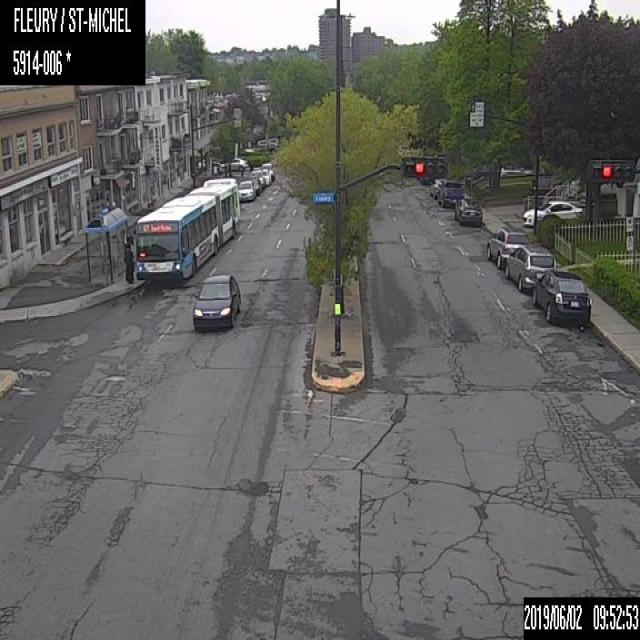bus: (134, 175, 238, 282)
pedestrian: (122, 233, 134, 283)
vehicle: (530, 268, 591, 322), (191, 271, 241, 329), (504, 242, 555, 290), (486, 224, 528, 267), (522, 198, 581, 225), (436, 177, 464, 206), (454, 197, 483, 225), (236, 178, 255, 200), (428, 175, 444, 196), (229, 157, 250, 170), (248, 176, 260, 193)
